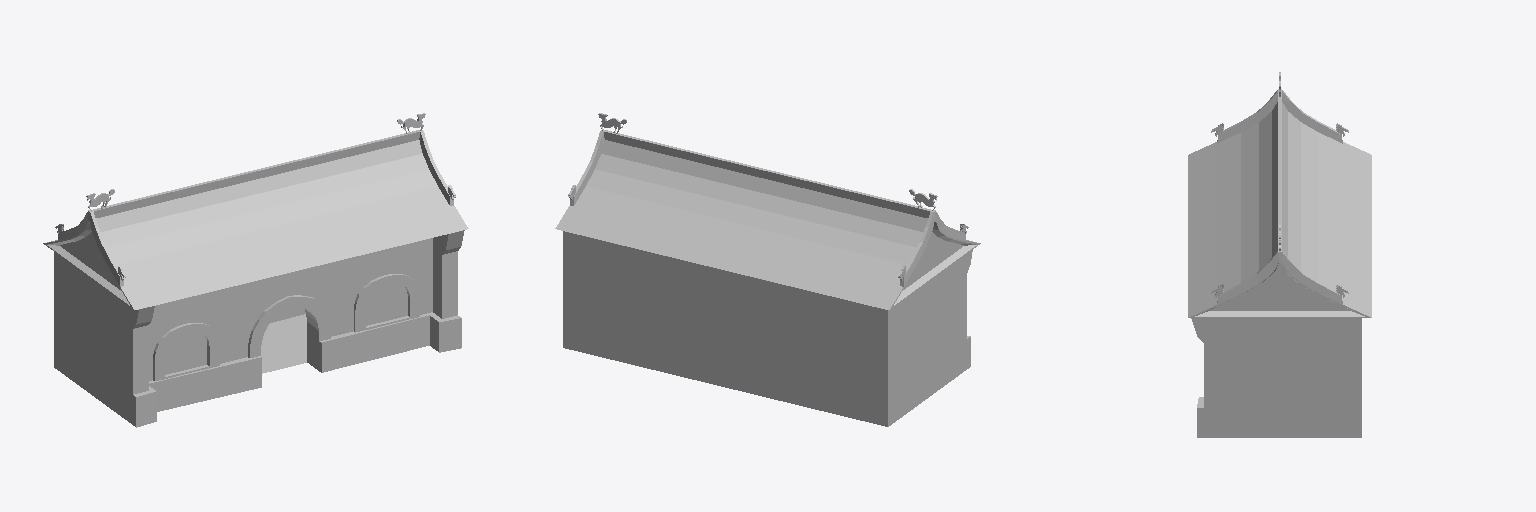
File: idk2.obj
3 renders of one model, left to right at view 1: azimuth 30°, elevation 25°; view 2: azimuth 150°, elevation 25°; view 3: azimuth 270°, elevation 25°, orthographic.
Parts seen in each view (by area): view 1: china; view 2: china; view 3: china.
Part boxes in pixels (bbox=[...]): china: bbox=[43, 113, 468, 427]; china: bbox=[555, 113, 980, 426]; china: bbox=[1188, 72, 1371, 437].
Size of the model in its own units: 1 by 0.5743 by 0.4681.